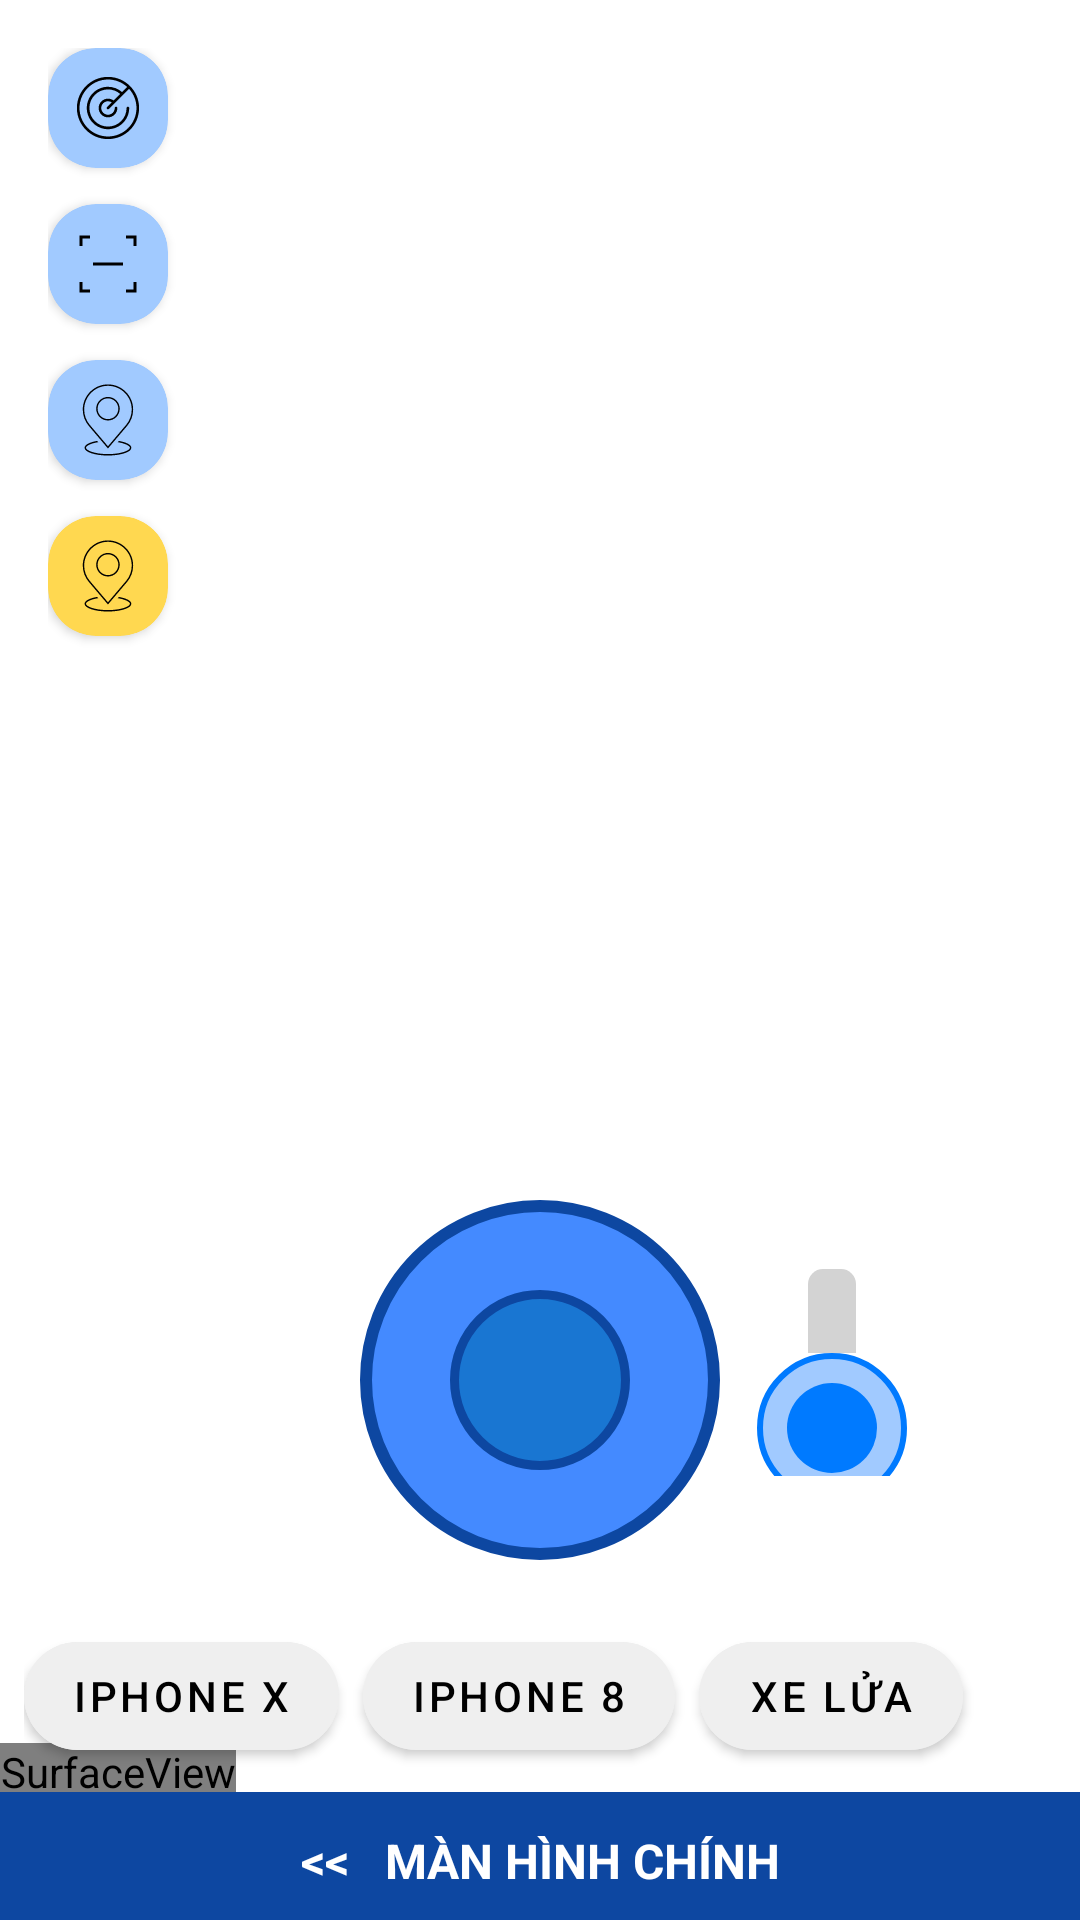

Icon click points for this 1080*1920 phone screenshot, format (x=x, y=y):
radar: (x=108, y=108)
